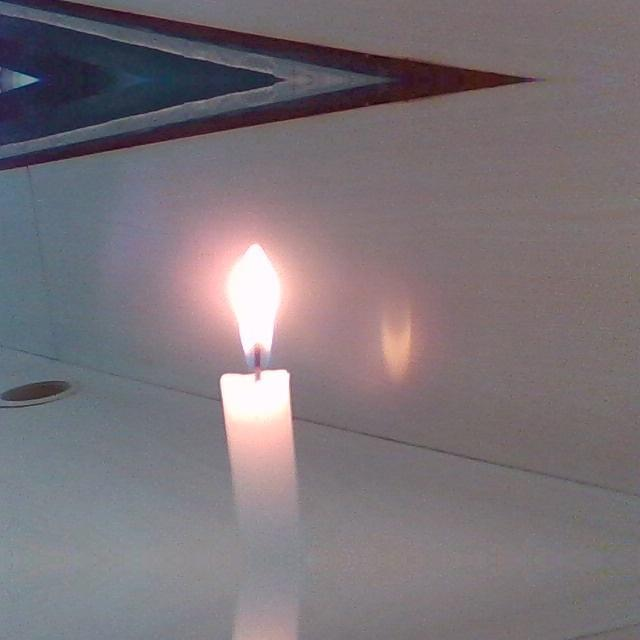smoke: (226, 242, 284, 368)
